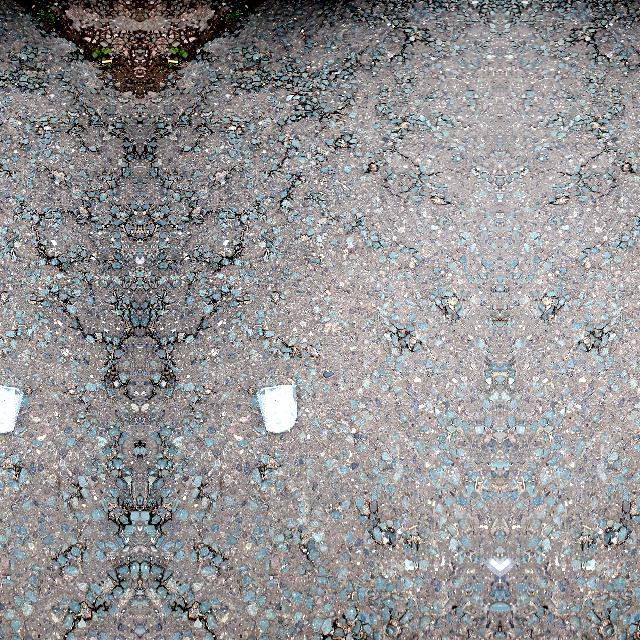Plastic: (253, 382, 300, 436), (0, 381, 26, 436)
